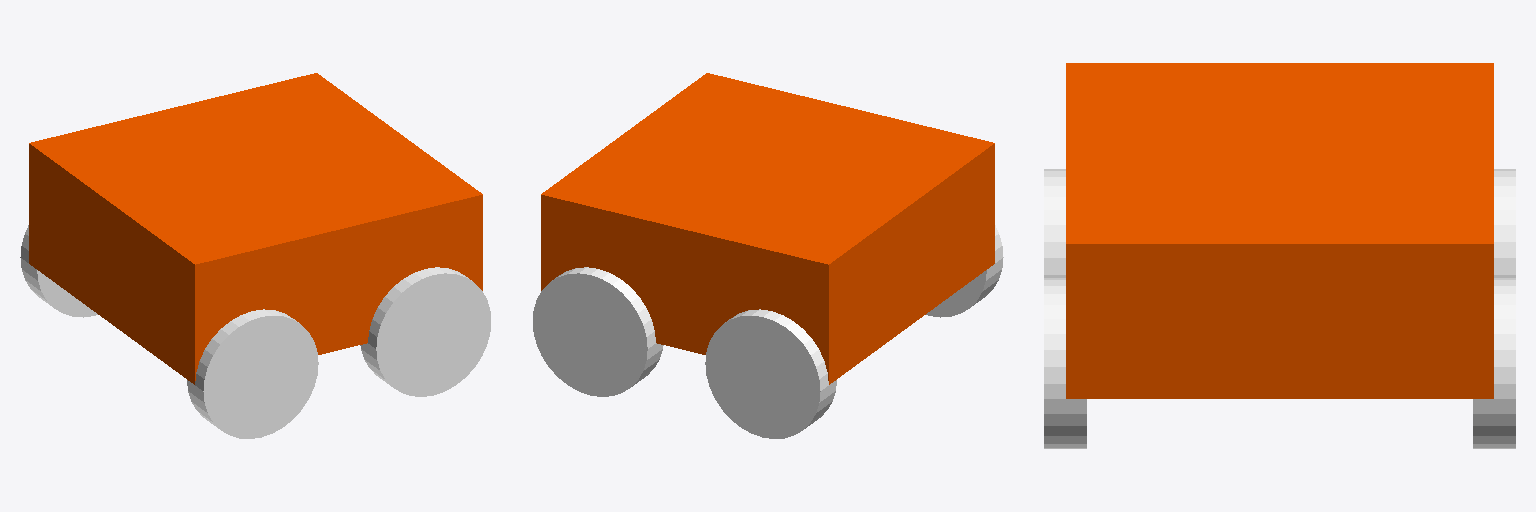
robot.urdf — mbot:
<?xml version="1.0" ?>
<robot name="mbot">
	<link name="base_link">
		<visual>
 			<origin xyz=" 0 0 0" rpy="0 0 0" />
            		<geometry>
                		<box size="0.25 0.25 0.1" />
            		</geometry>
            		<material name="yellow">
                		<color rgba="1 0.4 0 1"/>
            		</material>
		</visual>
	</link>
        
	<joint name="front_left_wheel_joint" type="continuous">
		<origin xyz="0.075 0.125 -0.05" rpy="0 0 0"/>
        	<parent link="base_link"/>
        	<child link="front_left_wheel_link"/>
        	<axis xyz="0 1 0"/>
    	</joint>

    	<link name="front_left_wheel_link">
        	<visual>
            		<origin xyz="0 0 0" rpy="1.5707 0 0" />
            		<geometry>
                		<cylinder radius="0.05" length = "0.025"/>
            		</geometry>
            		<material name="white">
                		<color rgba="1 1 1 0.9"/>
            		</material>
        	</visual>
    	</link>

	<joint name="front_right_wheel_joint" type="continuous">
		<origin xyz="0.075 -0.125 -0.05" rpy="0 0 0"/>
        	<parent link="base_link"/>
        	<child link="front_right_wheel_link"/>
        	<axis xyz="0 1 0"/>
    	</joint>

    	<link name="front_right_wheel_link">
        	<visual>
            		<origin xyz="0 0 0" rpy="1.5707 0 0" />
            		<geometry>
                		<cylinder radius="0.05" length = "0.025"/>
            		</geometry>
            		<material name="white">
                		<color rgba="1 1 1 0.9"/>
            		</material>
        	</visual>
    	</link>
	
	<joint name="back_left_wheel_joint" type="continuous">
		<origin xyz="-0.075 0.125 -0.05" rpy="0 0 0"/>
        	<parent link="base_link"/>
        	<child link="back_left_wheel_link"/>
        	<axis xyz="0 1 0"/>
    	</joint>

    	<link name="back_left_wheel_link">
        	<visual>
            		<origin xyz="0 0 0" rpy="1.5707 0 0" />
            		<geometry>
                		<cylinder radius="0.05" length = "0.025"/>
            		</geometry>
            		<material name="white">
                		<color rgba="1 1 1 0.9"/>
            		</material>
        	</visual>
    	</link>

	<joint name="back_right_wheel_joint" type="continuous">
		<origin xyz="-0.075 -0.125 -0.05" rpy="0 0 0"/>
        	<parent link="base_link"/>
        	<child link="back_right_wheel_link"/>
        	<axis xyz="0 1 0"/>
    	</joint>

    	<link name="back_right_wheel_link">
        	<visual>
            		<origin xyz="0 0 0" rpy="1.5707 0 0" />
            		<geometry>
                		<cylinder radius="0.05" length = "0.025"/>
            		</geometry>
            		<material name="white">
                		<color rgba="1 1 1 0.9"/>
            		</material>
        	</visual>
    	</link>

	<joint name="kinect_joint" type="revolute">
        	<origin xyz="0.07 0 0.08" rpy="0 0 0"/>
        	<parent link="base_link"/>
        	<child link="kinect_link"/>
		<axis xyz="0 0 1"/>
		<limit effort="30" velocity="1.0" lower="-0.7" upper="0.7" />
    	</joint>
	
	<link name="kinect_link">
	        <visual>
        	    <origin xyz="0 0 0" rpy="0 0 1.5708"/>
	            <geometry>
        	        <mesh filename="package://mbot_description/meshes/kinect.dae" />
        	    </geometry>
        	</visual>
    	</link>

</robot>

--- Facts derived from the render (not from the file) ---
3 views of the same robot in one strip: view 1: azimuth 30°, elevation 25°; view 2: azimuth 150°, elevation 25°; view 3: azimuth 270°, elevation 25° (orthographic).
Model mbot with 6 links and 5 joints (1 revolute, 4 continuous), rooted at base_link, posed every joint at zero.
Visible links, largest first — view 1: base_link, back_right_wheel_link, front_right_wheel_link, back_left_wheel_link; view 2: base_link, back_left_wheel_link, front_left_wheel_link, back_right_wheel_link; view 3: base_link, front_left_wheel_link, front_right_wheel_link, back_left_wheel_link, back_right_wheel_link.
Boxes of the visible links, x1=… form: base_link: x1=29, y1=73, x2=482, y2=384; back_right_wheel_link: x1=187, y1=309, x2=318, y2=438; front_right_wheel_link: x1=360, y1=267, x2=490, y2=396; back_left_wheel_link: x1=20, y1=225, x2=97, y2=317; base_link: x1=541, y1=73, x2=994, y2=384; back_left_wheel_link: x1=705, y1=309, x2=836, y2=438; front_left_wheel_link: x1=533, y1=267, x2=663, y2=396; back_right_wheel_link: x1=926, y1=225, x2=1003, y2=317; base_link: x1=1066, y1=63, x2=1493, y2=398; front_left_wheel_link: x1=1473, y1=278, x2=1515, y2=448; front_right_wheel_link: x1=1044, y1=278, x2=1086, y2=448; back_left_wheel_link: x1=1494, y1=169, x2=1515, y2=277; back_right_wheel_link: x1=1044, y1=169, x2=1065, y2=277.
Bounding box of the posed robot: 0.25 × 0.275 × 0.15 m (x, y, z).
0 mesh visuals loaded from 1 distinct referenced files (none loaded); not drawn: 1 (reference not matched to a file when rendering).
